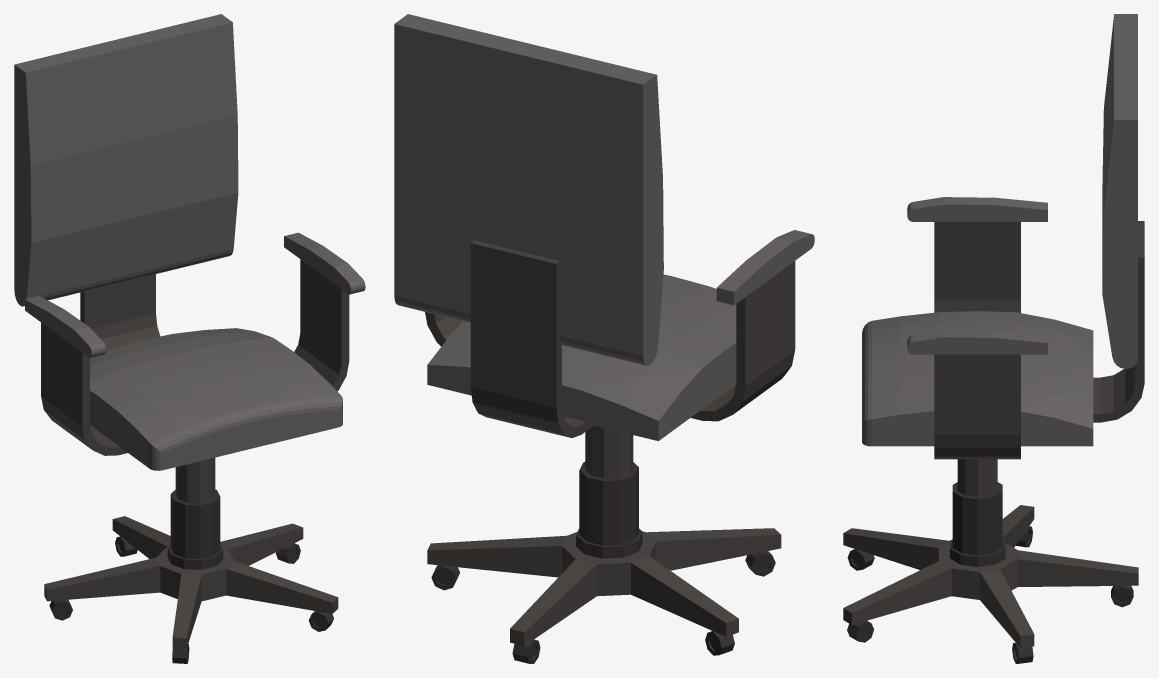
Rendered from Office Chair_01.fbx.
3 views of the same model, side by side, from view 1: azimuth 30°, elevation 25°; view 2: azimuth 150°, elevation 25°; view 3: azimuth 270°, elevation 25° (orthographic). The views are drawn at different scales.
Visible parts, largest first — view 1: Office Chair_01; view 2: Office Chair_01; view 3: Office Chair_01.
Part boxes in pixels (x1,y1,x2,y2): Office Chair_01: (14, 14, 365, 663); Office Chair_01: (394, 14, 814, 663); Office Chair_01: (843, 14, 1144, 663).
Size of the model in its own units: 60.2 by 107 by 54.67.
